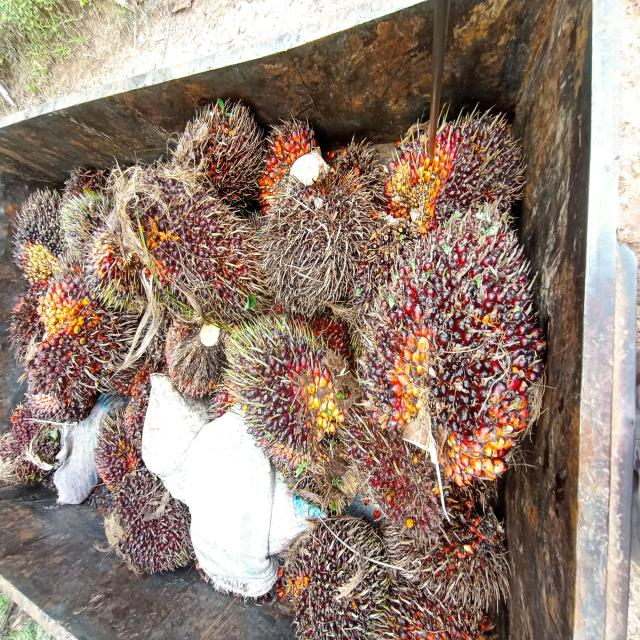fraksi 00: (218, 297, 357, 492), (378, 79, 526, 247), (269, 512, 398, 640), (5, 160, 84, 296)
fraksi 1: (360, 197, 558, 517), (105, 147, 272, 345), (84, 434, 197, 585), (348, 408, 436, 540), (95, 402, 152, 493)
fraksi 3: (17, 241, 118, 407)
fraksi 4: (402, 487, 528, 640), (172, 60, 282, 225), (248, 110, 322, 210)
